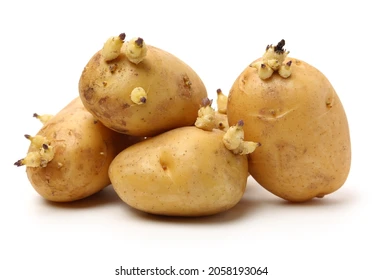potato rotten: (229, 41, 361, 212)
